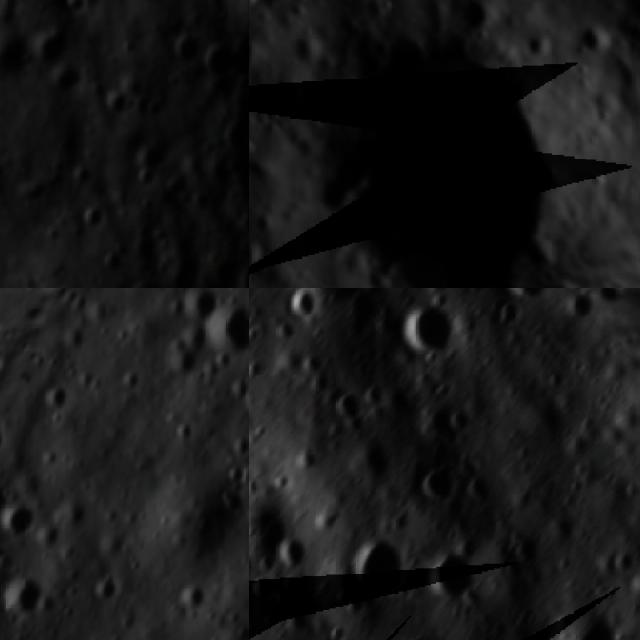crater: (256, 0, 629, 288), (334, 522, 432, 618), (384, 288, 478, 381), (249, 476, 322, 581), (415, 535, 491, 616), (408, 389, 482, 460), (512, 600, 640, 640), (191, 288, 249, 375), (0, 559, 65, 636), (342, 436, 406, 504), (410, 464, 470, 520), (0, 490, 52, 550), (326, 378, 382, 433), (376, 378, 430, 434), (283, 433, 337, 488), (269, 528, 322, 581), (276, 288, 334, 334), (169, 568, 220, 620), (570, 11, 621, 60), (484, 296, 533, 344), (173, 288, 234, 326), (300, 358, 348, 406), (86, 560, 132, 609), (249, 218, 282, 283), (507, 526, 552, 572), (202, 37, 245, 84), (34, 22, 81, 64), (460, 468, 503, 513), (447, 0, 500, 36), (211, 480, 249, 528), (230, 351, 249, 444), (39, 373, 80, 416), (491, 288, 565, 310), (0, 23, 29, 77), (607, 540, 640, 585), (295, 344, 334, 381), (249, 572, 284, 613), (62, 321, 98, 359), (115, 364, 150, 399), (168, 413, 202, 449), (54, 65, 90, 98), (80, 201, 116, 232), (499, 555, 532, 588), (221, 455, 249, 490), (223, 117, 249, 154), (249, 22, 268, 71), (197, 623, 249, 640), (249, 318, 274, 352), (173, 36, 202, 64), (134, 163, 160, 194), (72, 162, 100, 190), (100, 248, 126, 276), (106, 90, 134, 116), (229, 427, 249, 460), (625, 564, 640, 607), (65, 0, 87, 15), (132, 0, 177, 7), (0, 226, 11, 246), (242, 211, 249, 237)
